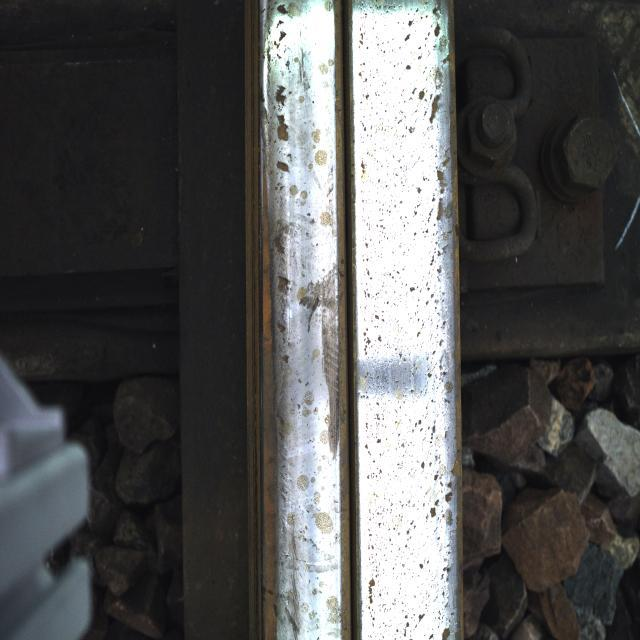scar: (362, 6, 450, 440), (262, 2, 340, 420)
